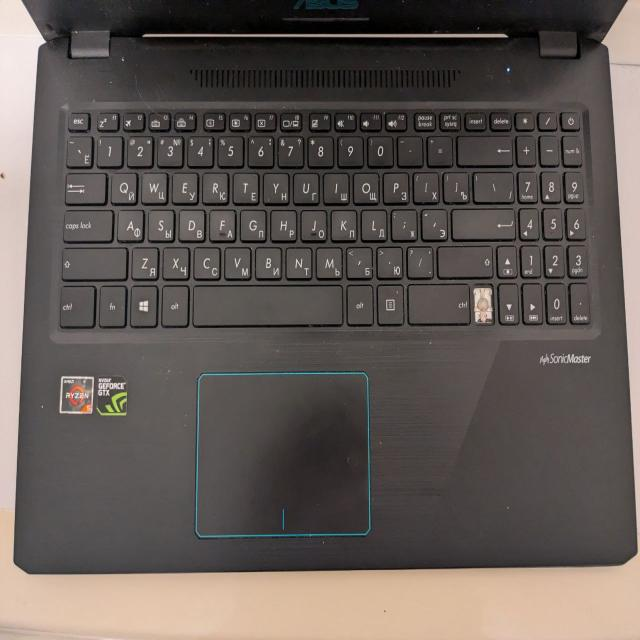missing_key: (474, 283, 494, 326)
